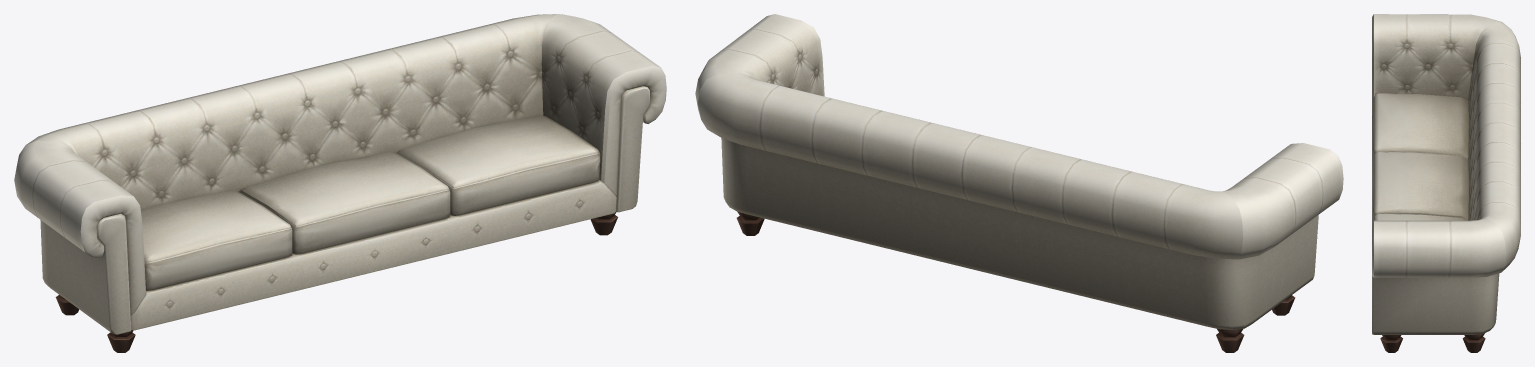
Rendered from sofa.fbx.
3 renders of one model, left to right at view 1: azimuth 30°, elevation 25°; view 2: azimuth 150°, elevation 25°; view 3: azimuth 270°, elevation 25°, orthographic. The views are drawn at different scales.
Visible parts, largest first — view 1: s4studio_mesh_1; view 2: s4studio_mesh_1; view 3: s4studio_mesh_1.
Part boxes in pixels (x1,y1,x2,y2): s4studio_mesh_1: (14, 14, 666, 352); s4studio_mesh_1: (695, 14, 1343, 352); s4studio_mesh_1: (1372, 14, 1520, 352).
Size of the model in its own units: 281 by 76.1 by 77.17.
Materials: 1 (1 with a texture image).
